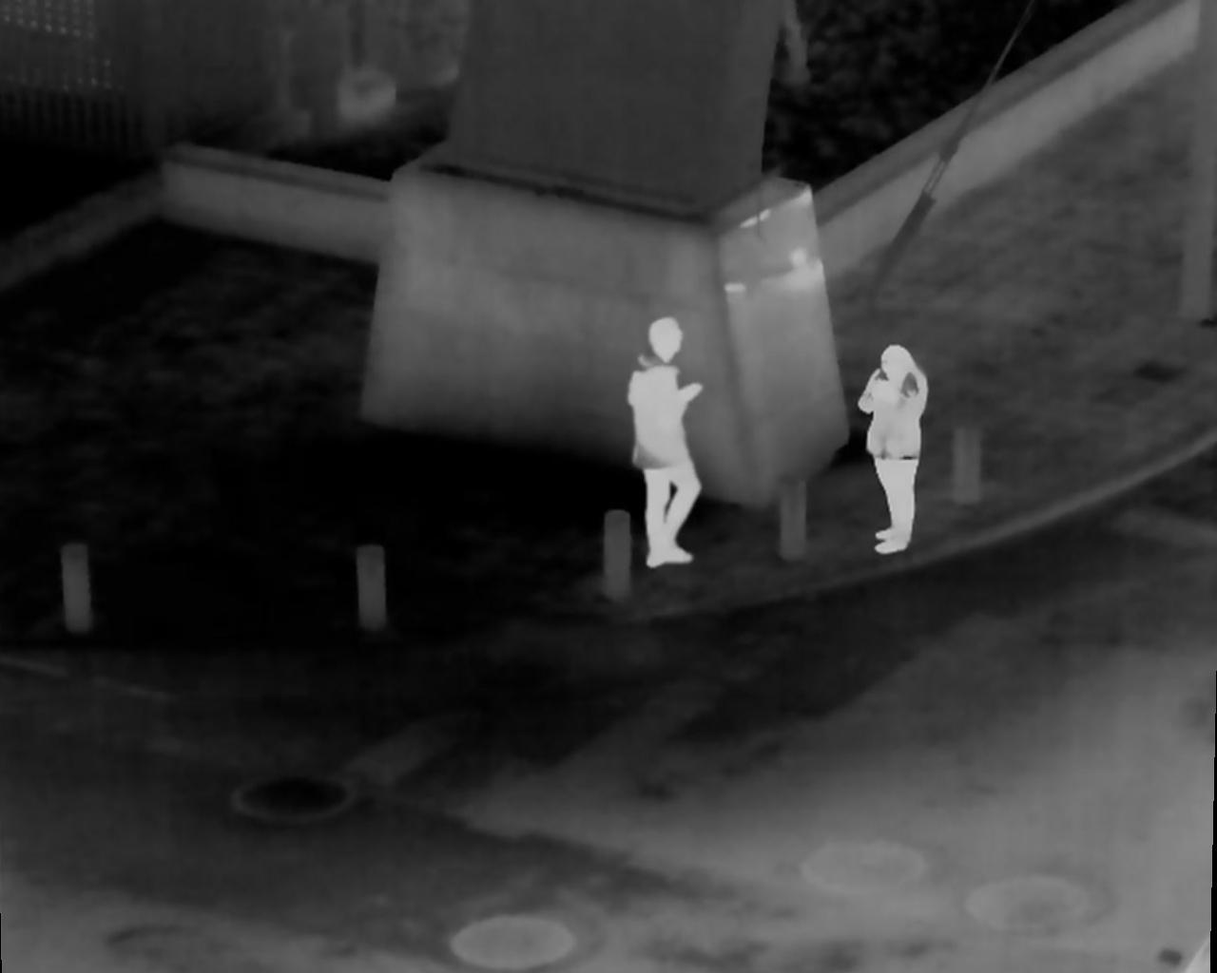person: (631, 315, 715, 578), (858, 344, 943, 557)
